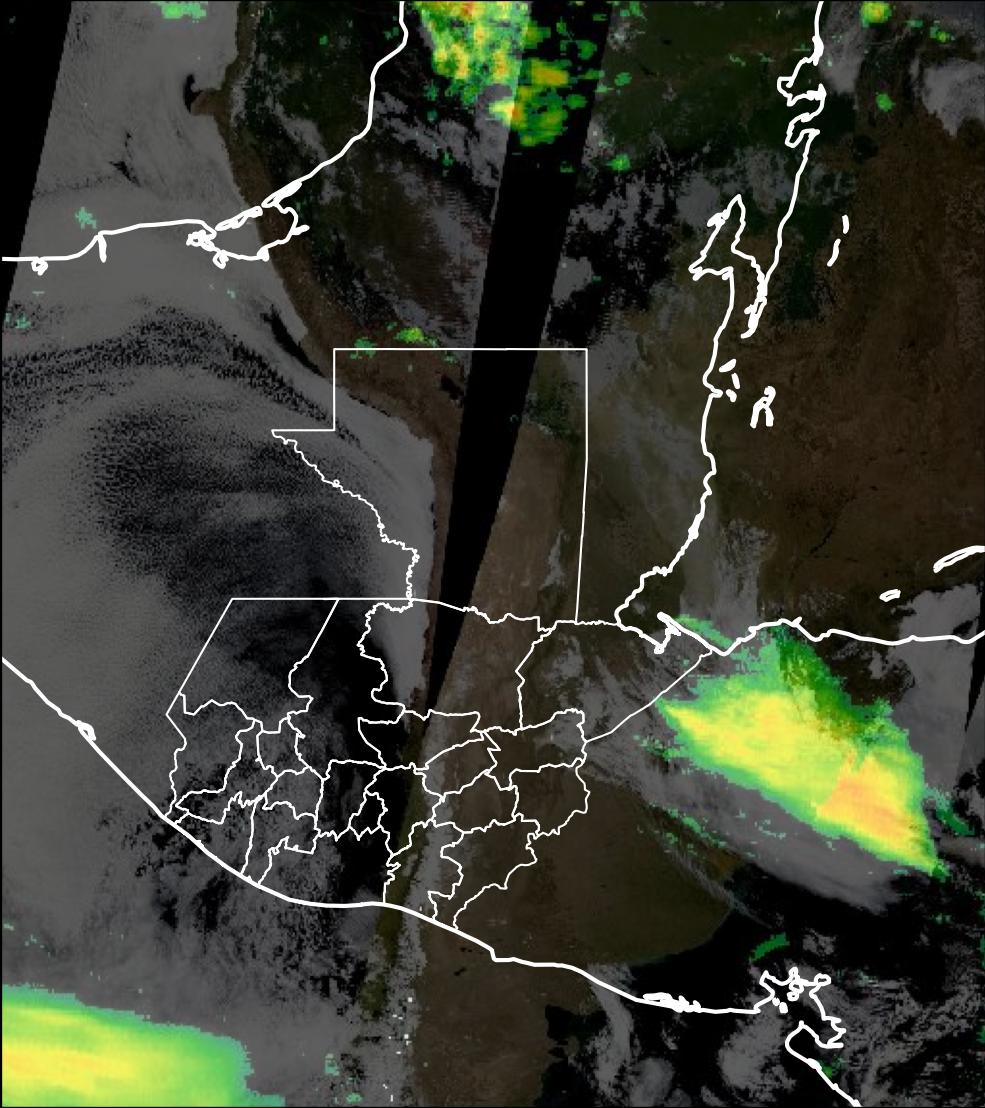precipitacion: (811, 748, 942, 863)
